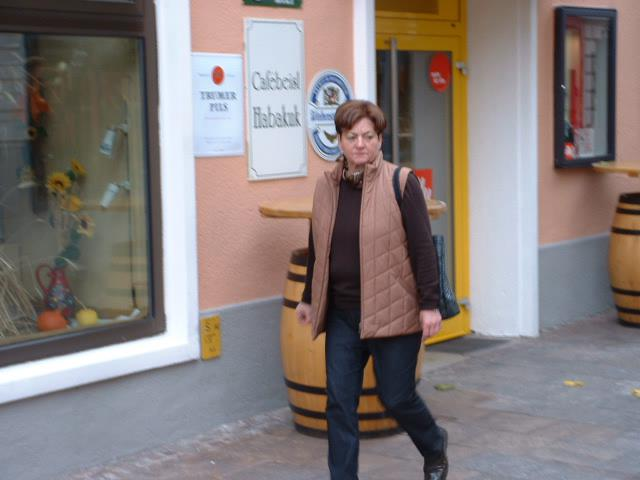Person: (292, 99, 456, 480)
